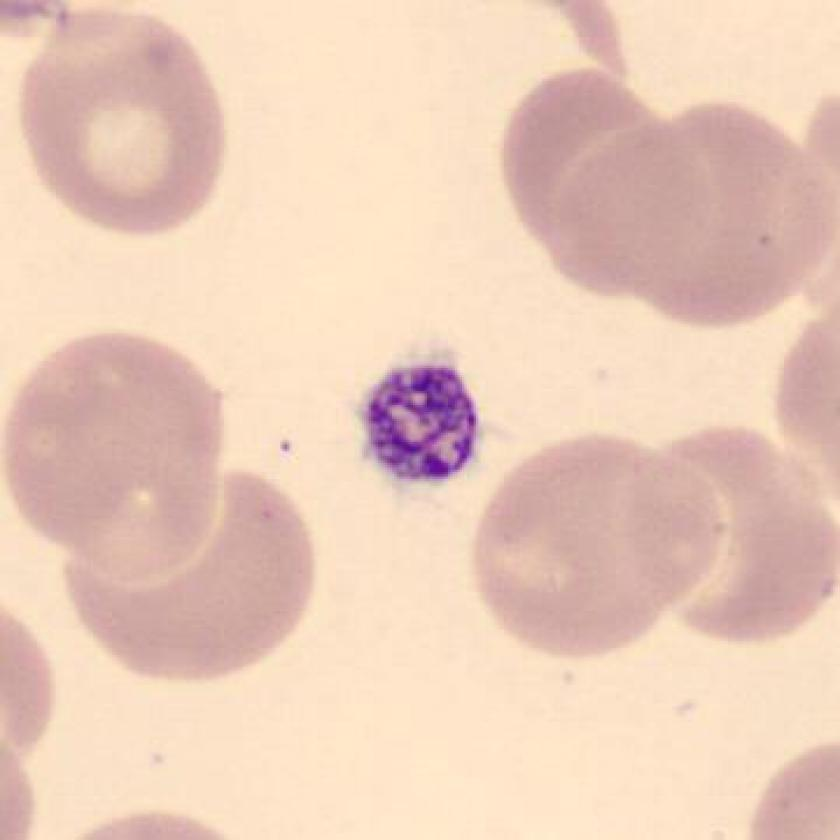platelets: (353, 351, 484, 492)
